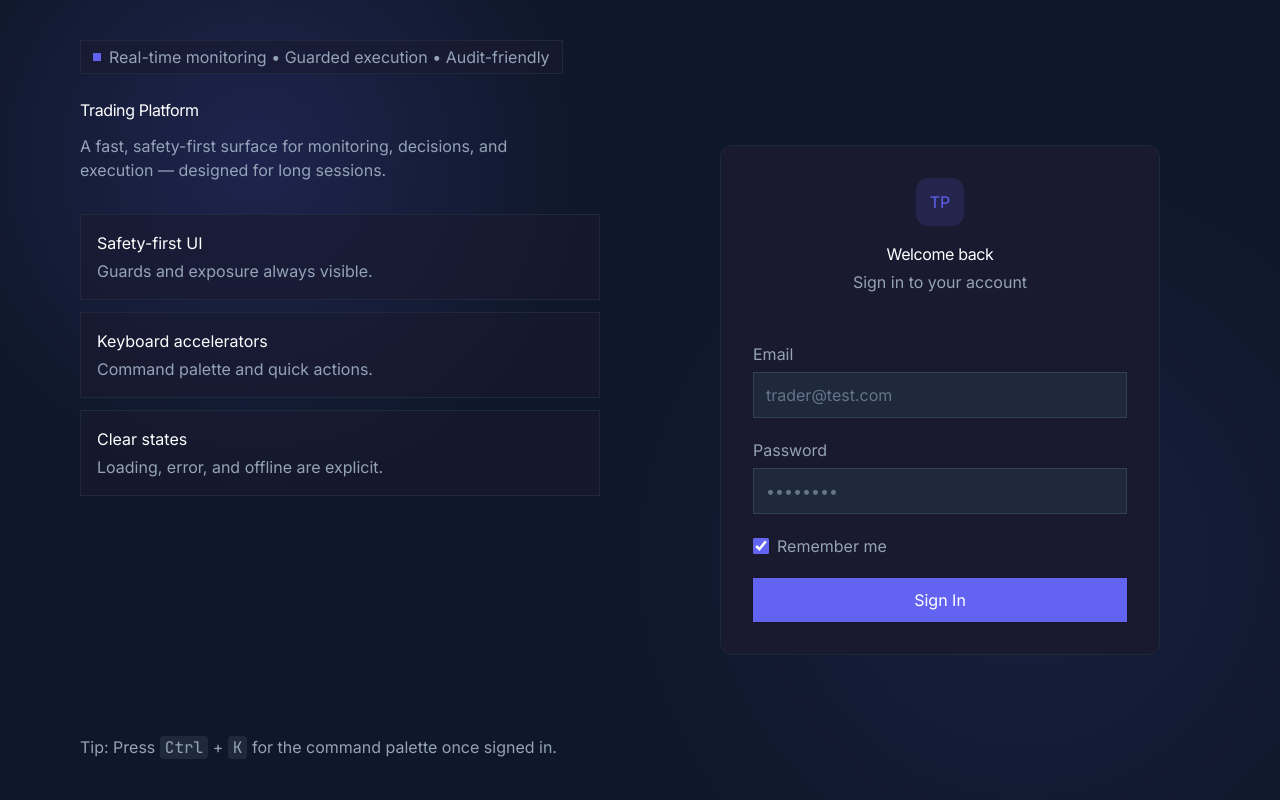
LoginPage › shows validation error for empty email
Click the button with test id "login-button". click: click(940, 600)
box: left=753, top=578, right=1127, bottom=622
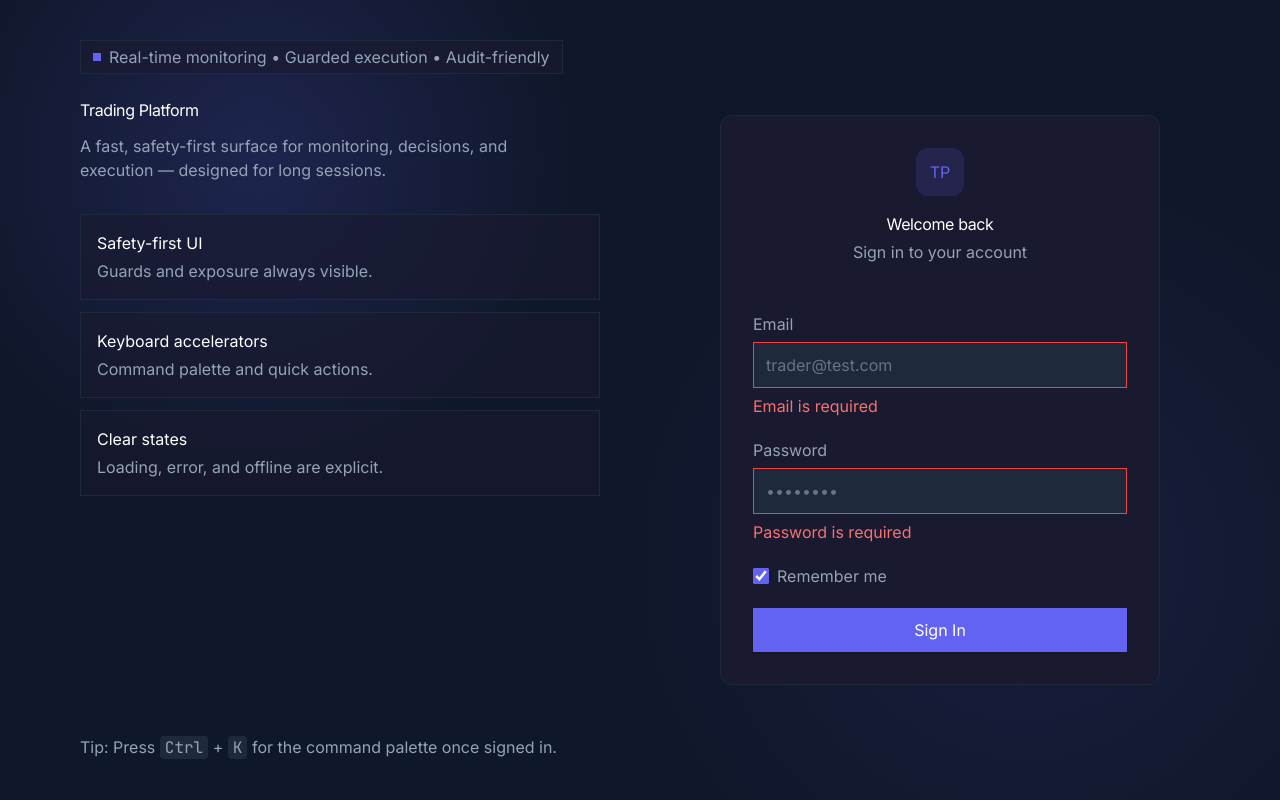
Expected: the text "Email is required" is shown, left=753, top=396, right=878, bottom=416
